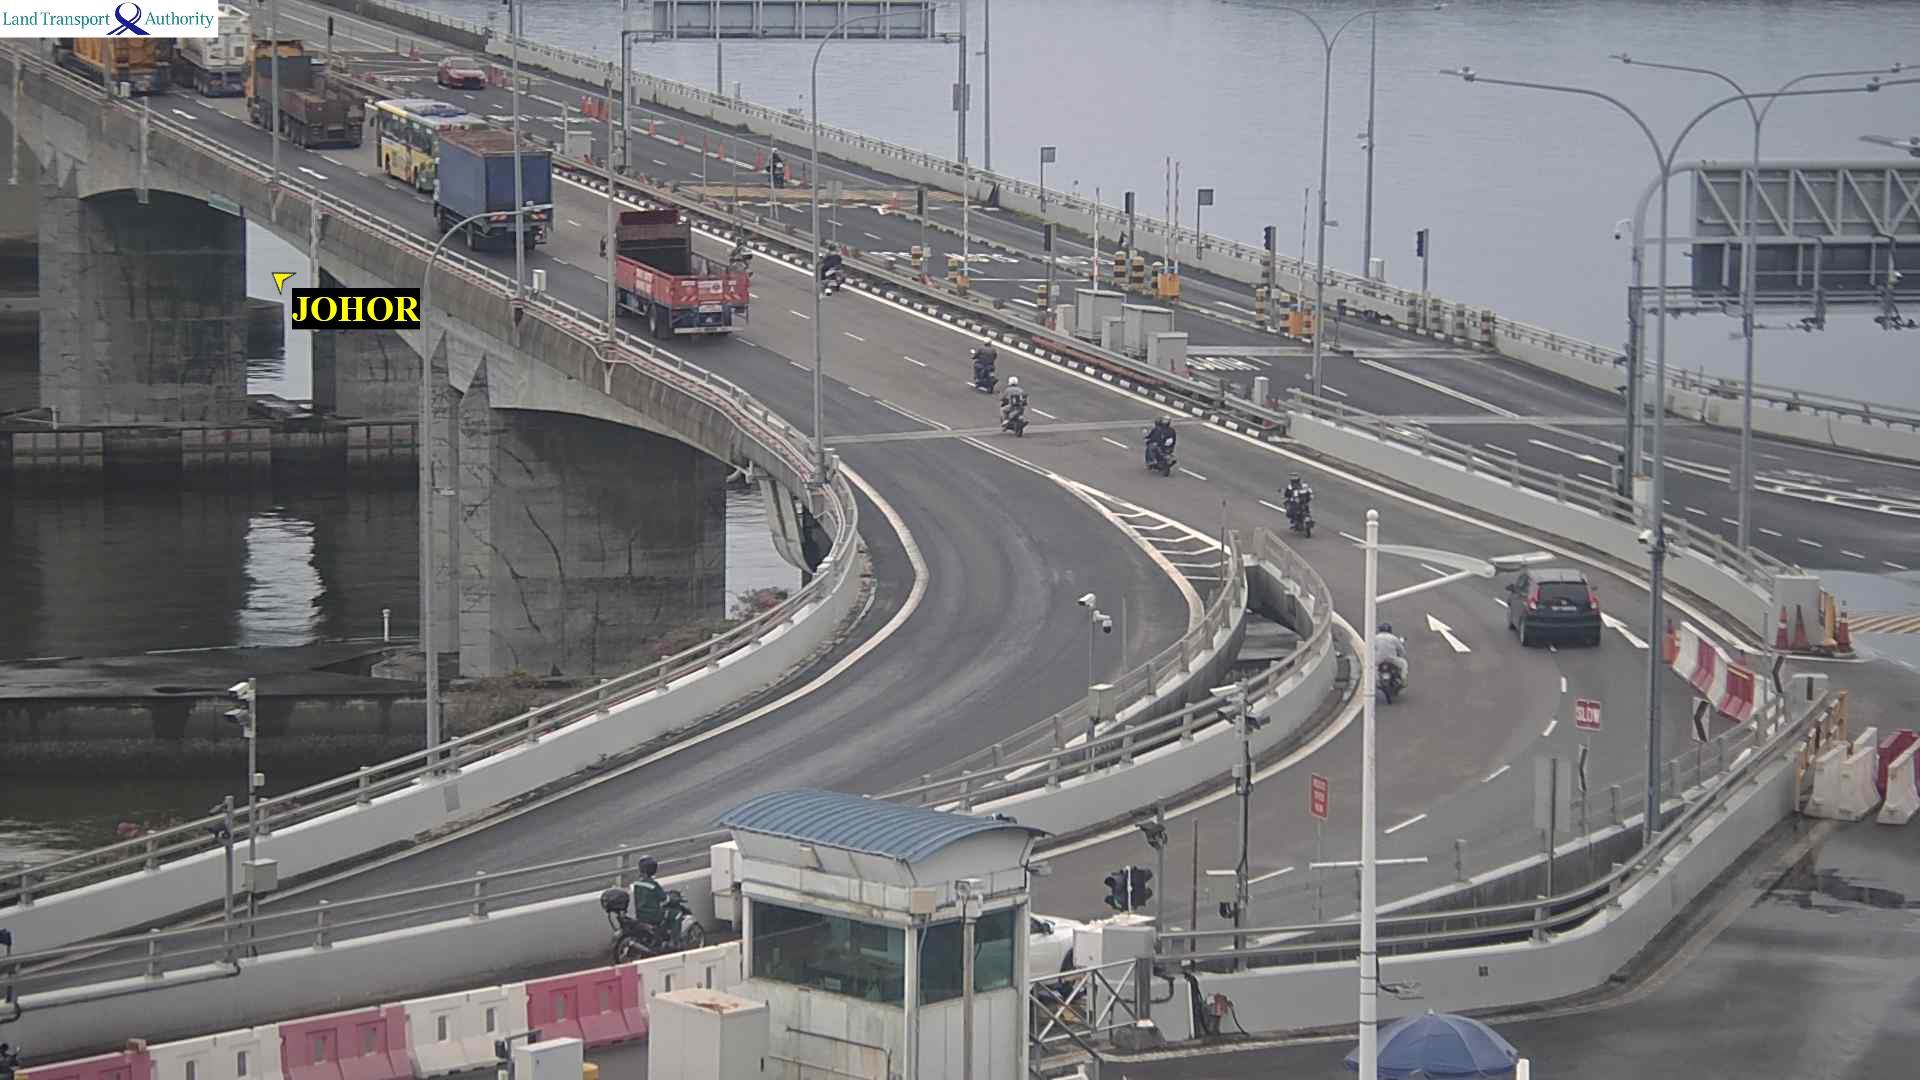vehicle-secondlink-johor: (382, 109, 551, 248), (617, 232, 750, 338), (1493, 560, 1602, 651), (257, 46, 356, 142), (1861, 957, 1920, 1076), (58, 38, 178, 92), (608, 865, 684, 939), (1274, 473, 1313, 533), (1142, 418, 1176, 473), (1001, 380, 1034, 434), (1374, 657, 1407, 702), (968, 344, 997, 390), (980, 348, 1006, 390)
vehicle-secondlink-singapore: (1874, 291, 1920, 331), (435, 61, 495, 87)
